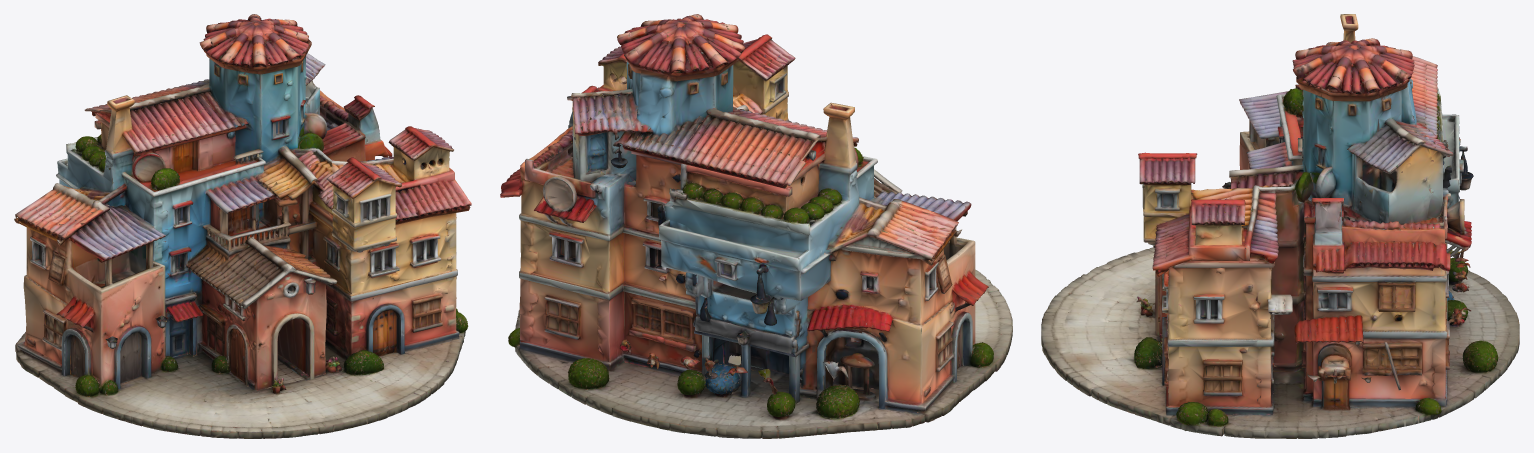
File: Colorful_Courtyard_Vi.glb
The picture shows the model from 3 angles, left to right: view 1: azimuth 30°, elevation 25°; view 2: azimuth 150°, elevation 25°; view 3: azimuth 270°, elevation 25°; orthographic projection. The views are drawn at different scales.
Parts seen in each view (by area): view 1: Colorful_Courtyard_Vi; view 2: Colorful_Courtyard_Vi; view 3: Colorful_Courtyard_Vi.
Boxes of the visible parts, left/top/right/bottom form: Colorful_Courtyard_Vi: left=14, top=14, right=471, bottom=438; Colorful_Courtyard_Vi: left=500, top=14, right=1012, bottom=438; Colorful_Courtyard_Vi: left=1041, top=14, right=1519, bottom=438.
Size of the model in its own units: 2 by 1.45 by 2.
1 material, 1 textured.
